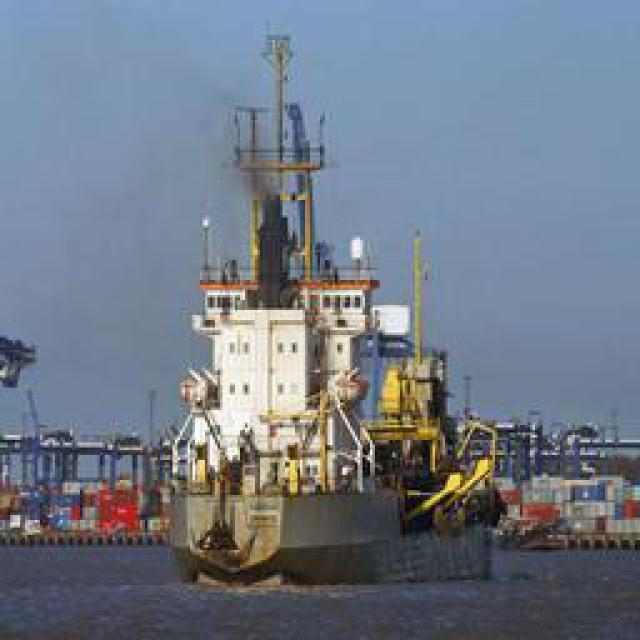Ship: (121, 38, 496, 606)
